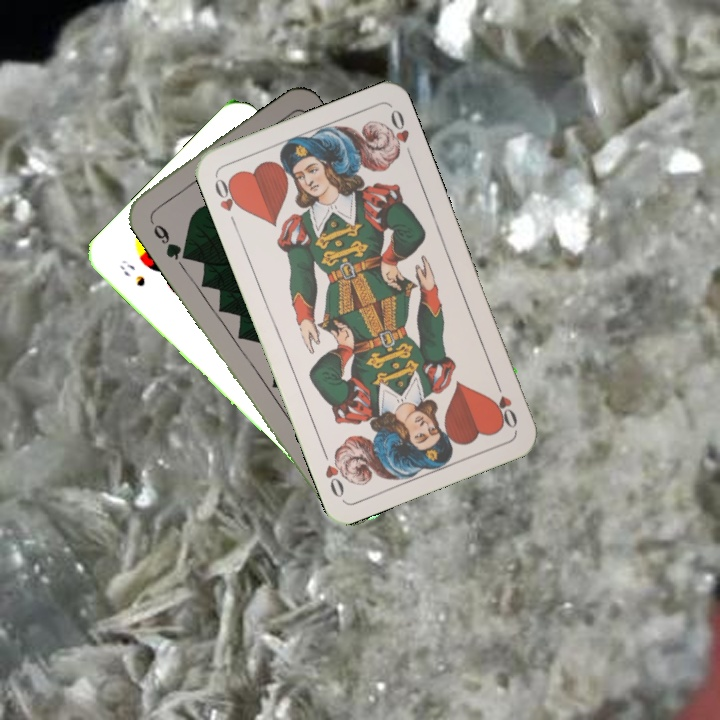G9: (145, 213, 189, 263)
HO: (210, 173, 245, 230), (489, 375, 520, 432)
S8: (115, 255, 148, 290)
